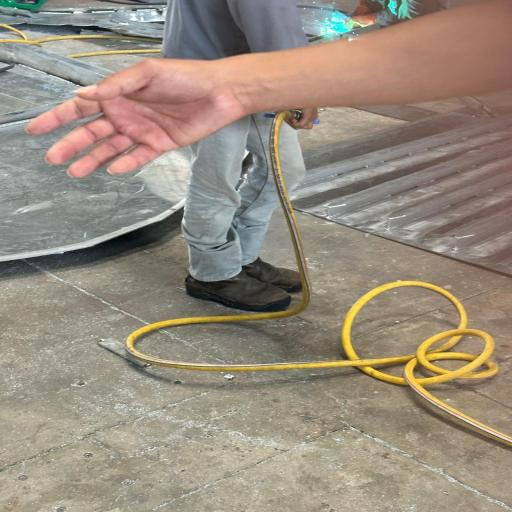safety_shoe: (182, 269, 293, 313), (247, 261, 312, 293)
